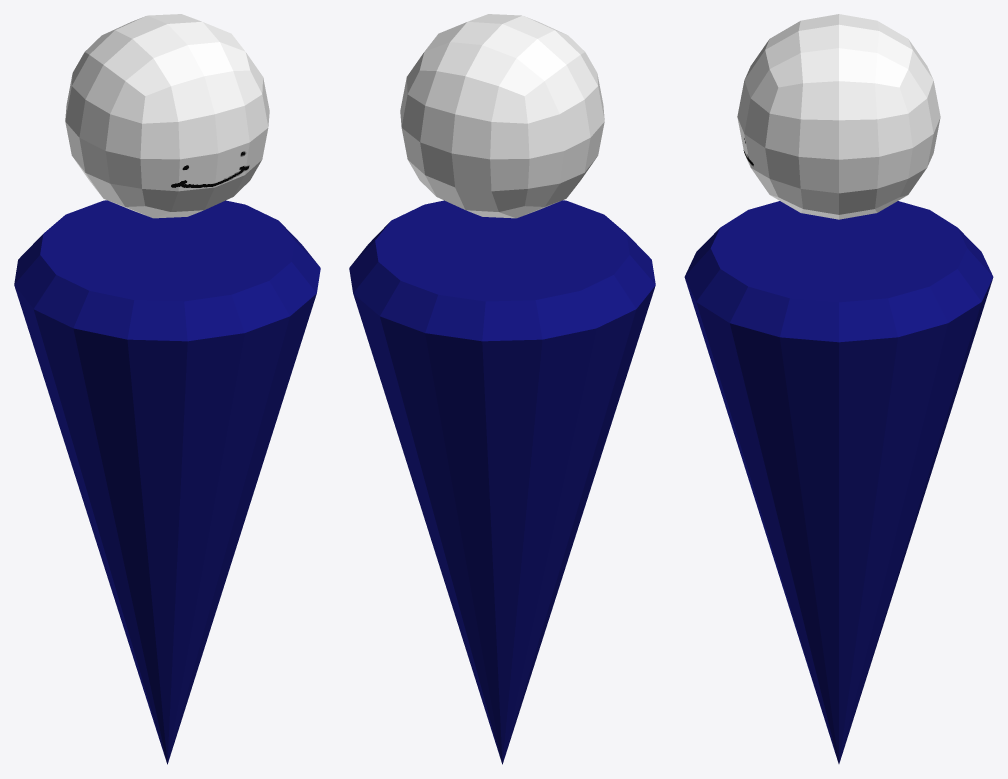
The model's file is npc (1).fbx.
3 views of the same model, side by side, from view 1: azimuth 30°, elevation 25°; view 2: azimuth 150°, elevation 25°; view 3: azimuth 270°, elevation 25° (orthographic).
Parts seen in each view (by area): view 1: NPC_Body, NPC_Head; view 2: NPC_Body, NPC_Head; view 3: NPC_Body, NPC_Head.
Part boxes in pixels (bbox=[...]): NPC_Body: bbox=[14, 200, 320, 764]; NPC_Head: bbox=[65, 14, 269, 218]; NPC_Body: bbox=[349, 200, 655, 764]; NPC_Head: bbox=[400, 14, 604, 218]; NPC_Body: bbox=[684, 201, 993, 763]; NPC_Head: bbox=[737, 14, 940, 219].
Bounding box in the file's own units: 31.16 × 82.37 × 31.16.
Materials: 2 (1 with a texture image).
